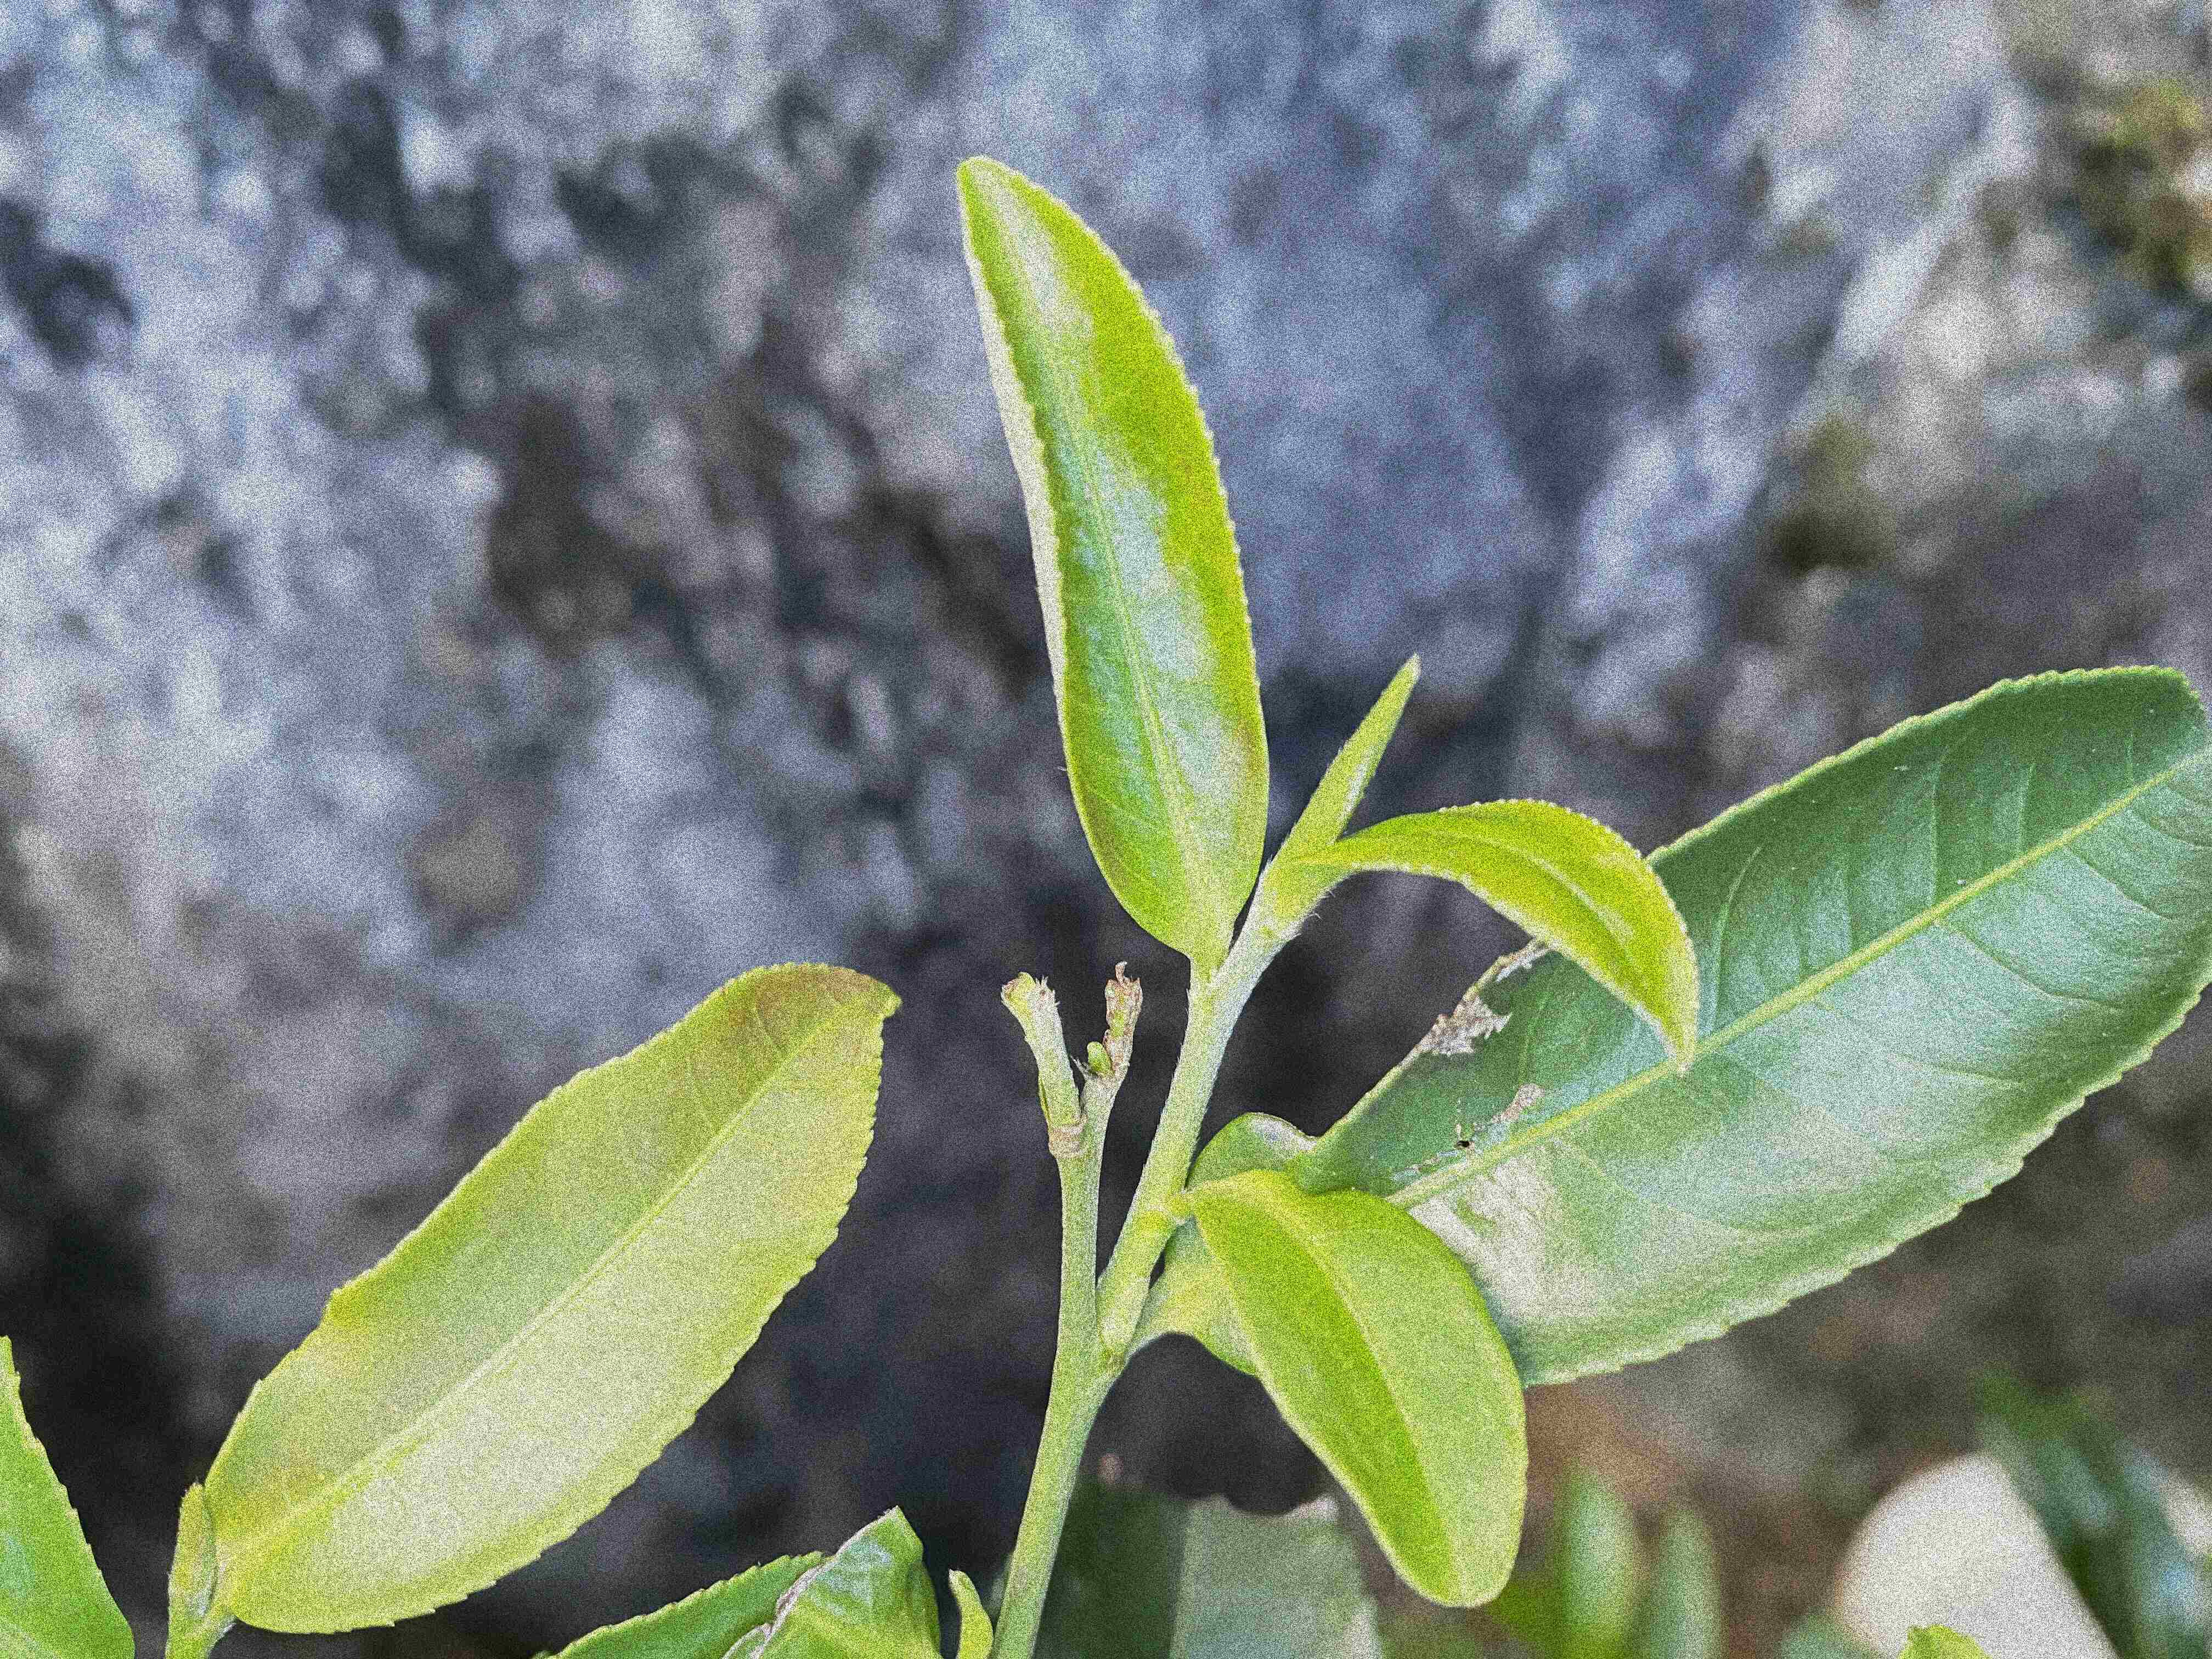chihuo_high: (718, 1504, 946, 1657)
healthy: (200, 960, 909, 1636), (954, 150, 1270, 958), (1183, 1169, 1533, 1608)
tanju_high: (1165, 655, 2207, 1391)
